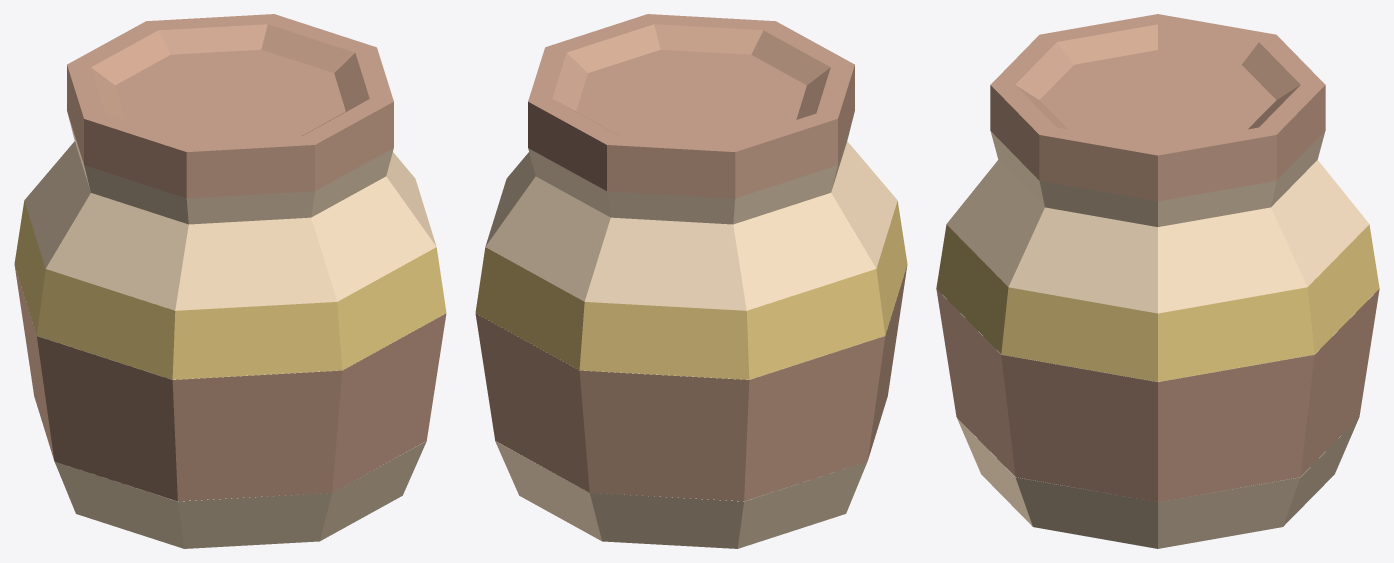
File: honey.glb
The picture shows the model from 3 angles, left to right: view 1: azimuth 30°, elevation 25°; view 2: azimuth 150°, elevation 25°; view 3: azimuth 270°, elevation 25°; orthographic projection.
Parts seen in each view (by area): view 1: honey; view 2: honey; view 3: honey.
Boxes of the visible parts, <box> form: honey: <box>14,14,446,548</box>; honey: <box>475,14,907,548</box>; honey: <box>936,14,1379,548</box>.
Bounding box in the file's own units: 0.326 × 0.3161 × 0.326.
